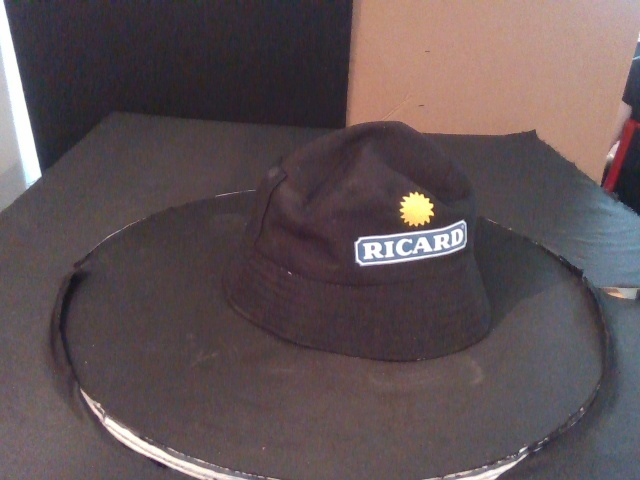hat: (221, 120, 493, 357)
